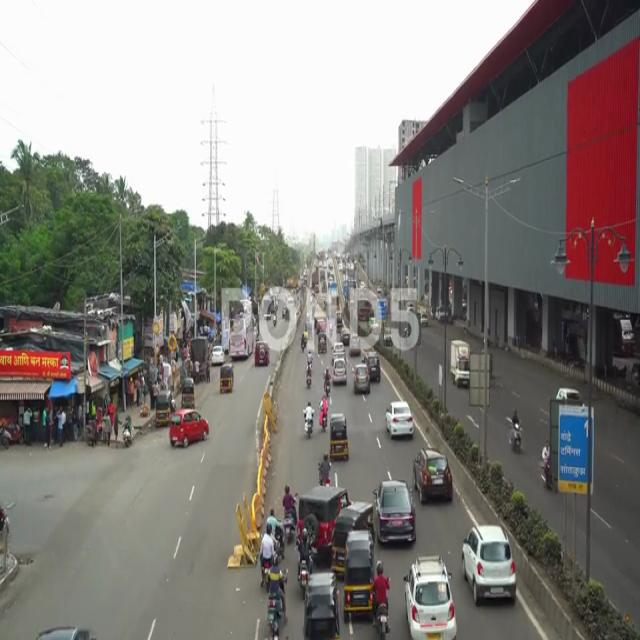car: (405, 558, 456, 639), (463, 526, 516, 601), (374, 480, 416, 548), (411, 451, 457, 504), (170, 412, 210, 444), (384, 402, 416, 441)
motorbike: (265, 558, 290, 632), (373, 560, 396, 640), (507, 411, 523, 452), (305, 395, 314, 443), (320, 395, 327, 436)
rikshaw: (346, 531, 374, 615), (330, 412, 350, 468)
truck: (449, 339, 469, 386)
